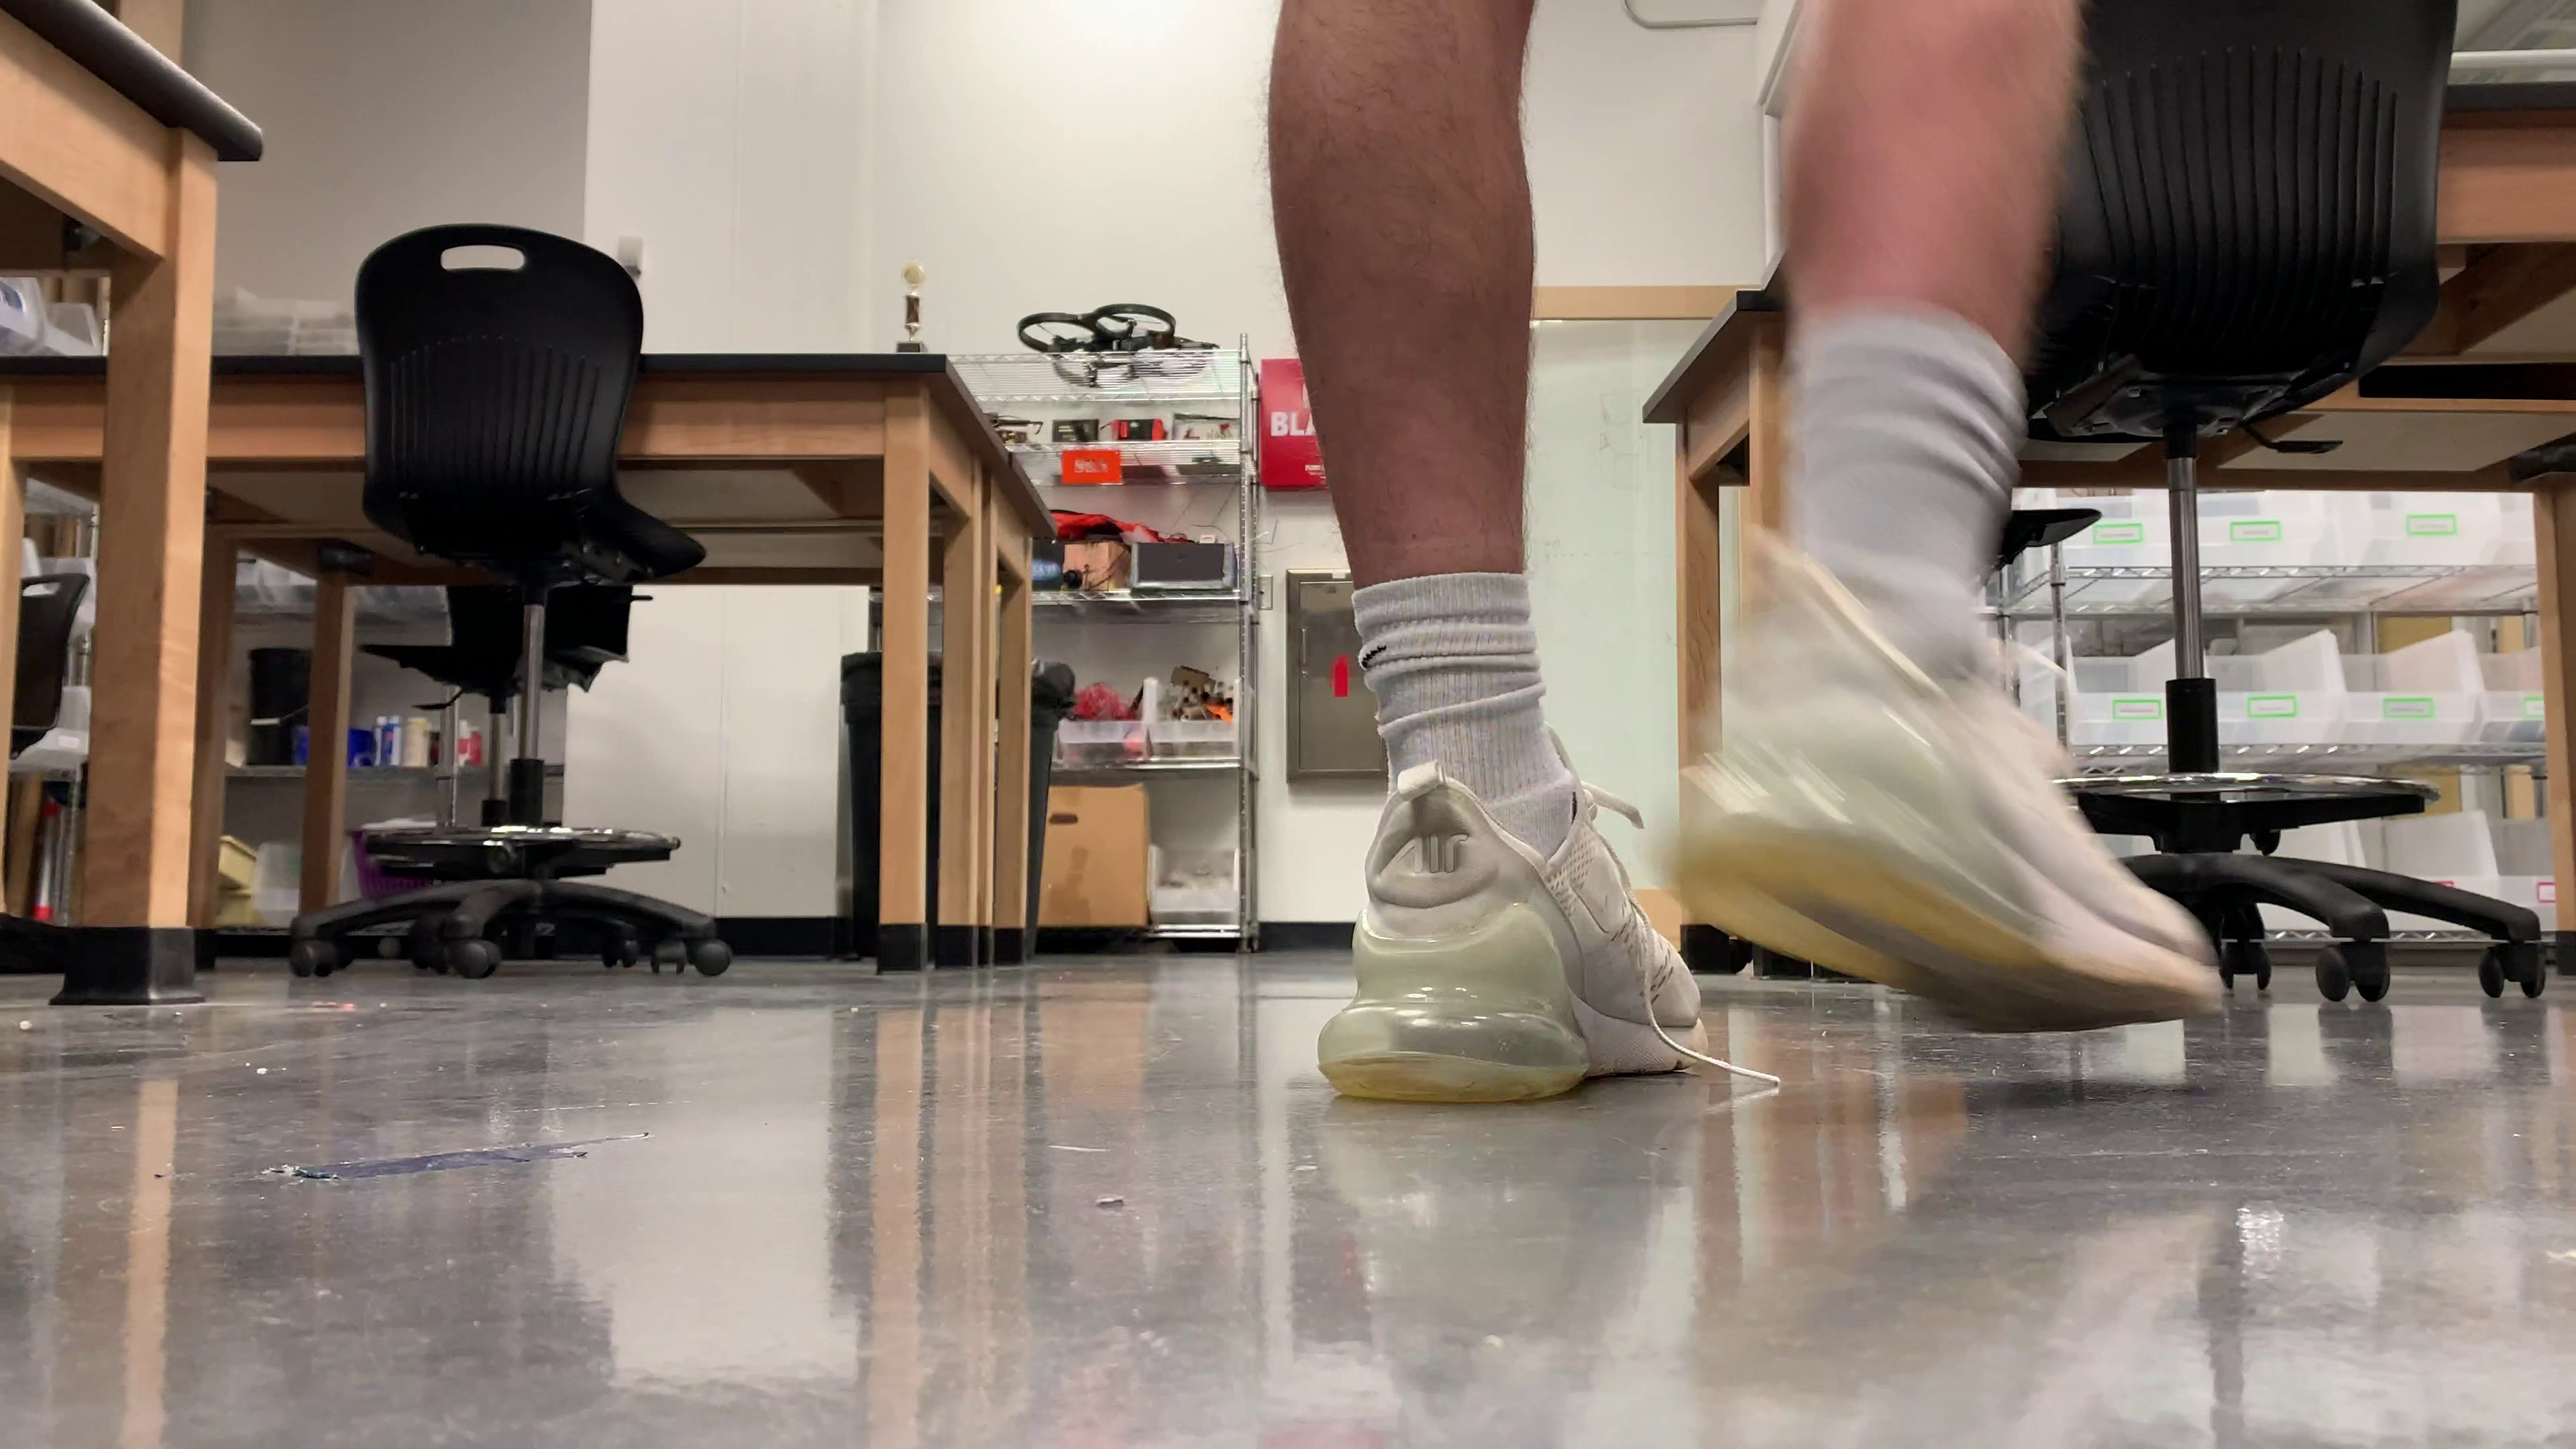shoe: (1318, 777, 1707, 1102)
